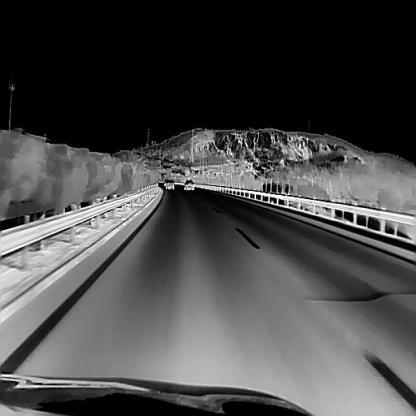car: (183, 178, 193, 189), (165, 180, 174, 189), (163, 178, 170, 185)
